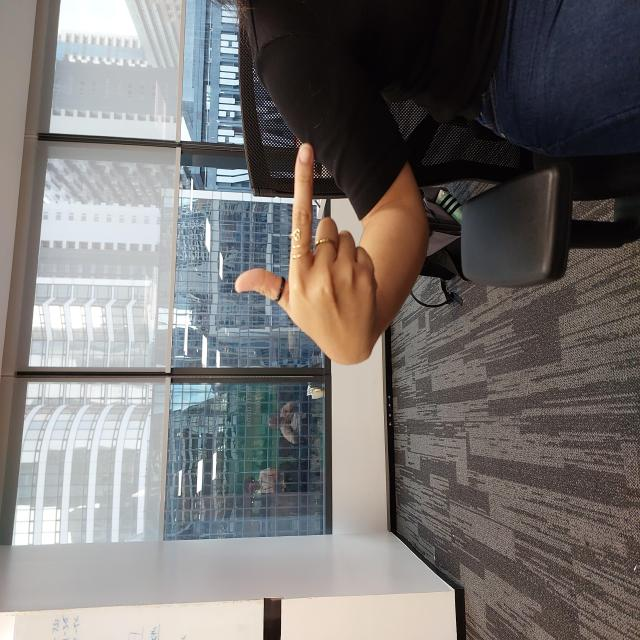G: (273, 234, 499, 380)
